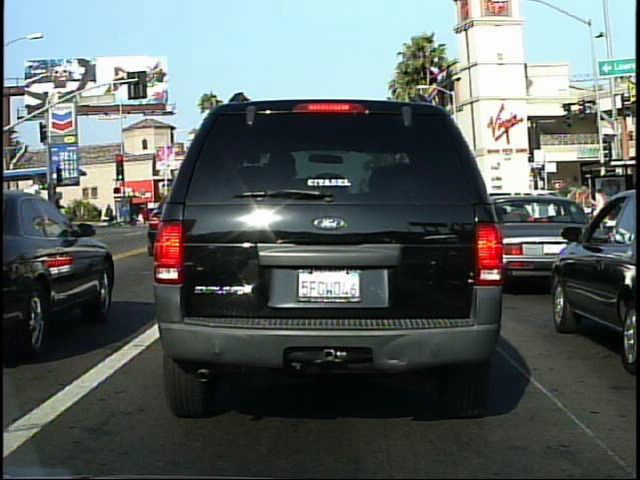person: (588, 184, 609, 243), (102, 199, 117, 233)
